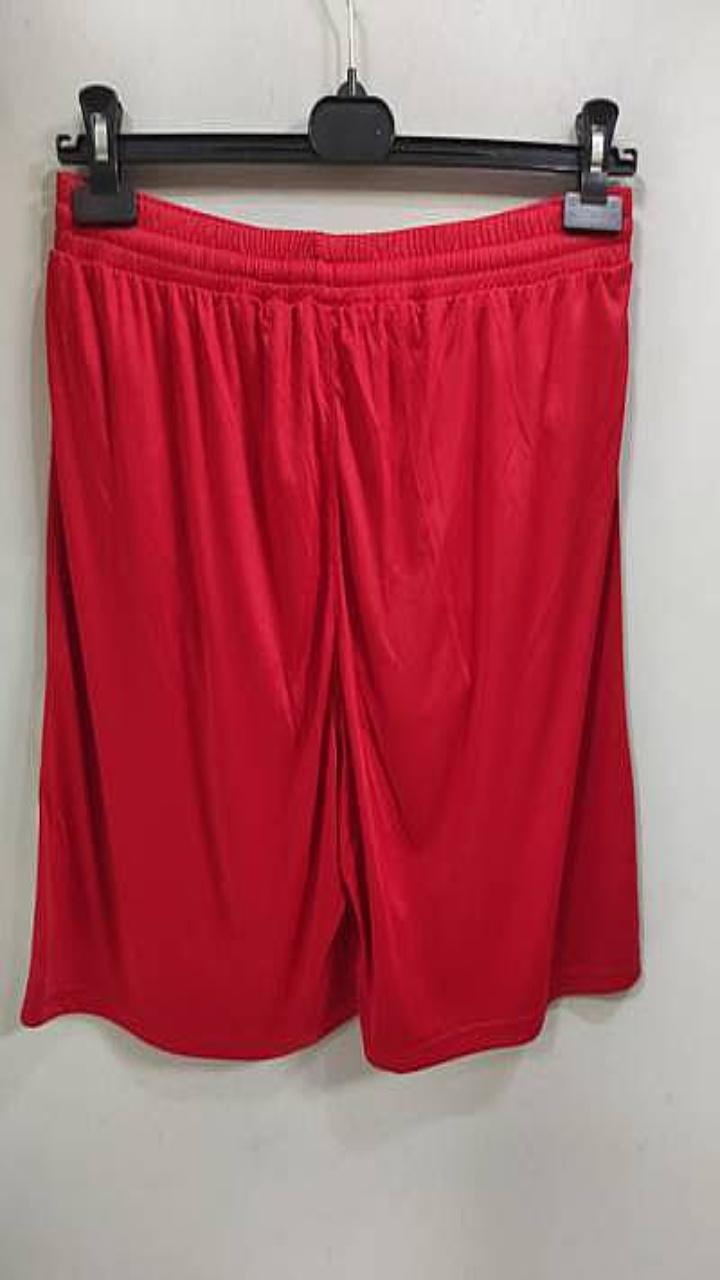Shorts: (21, 172, 639, 1070)
